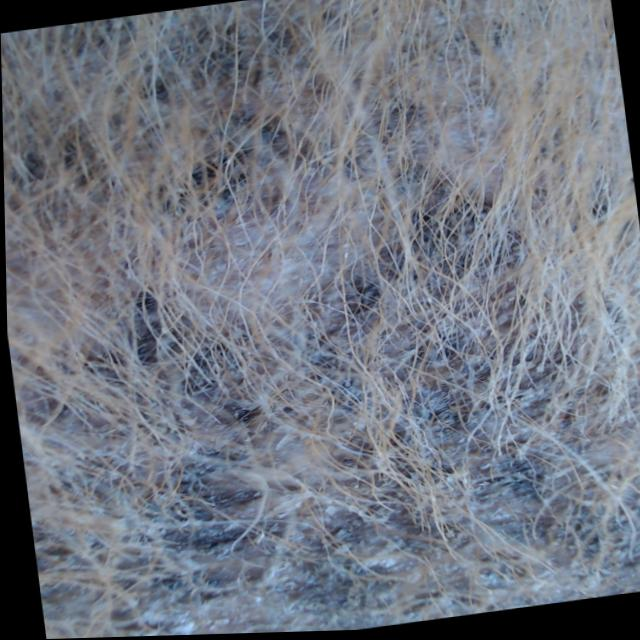demodicosis: (66, 308, 569, 638)
